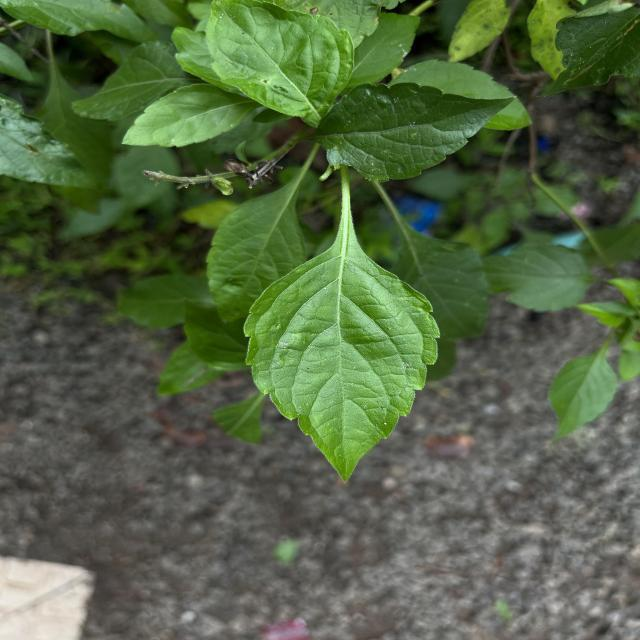Ocimum gratissimum: (240, 211, 444, 487), (305, 80, 520, 184)
